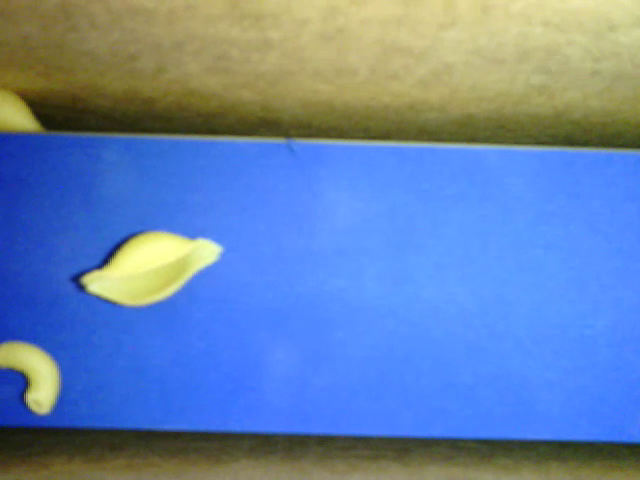elbow: (1, 342, 62, 416)
shell: (78, 229, 224, 306)
